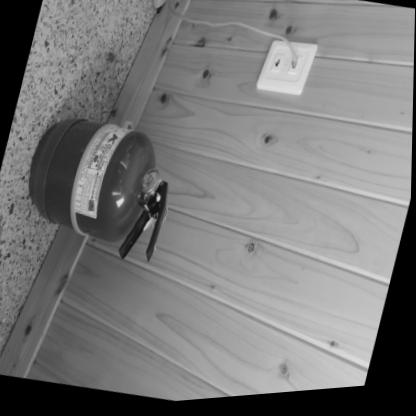FE: (11, 107, 185, 275)
